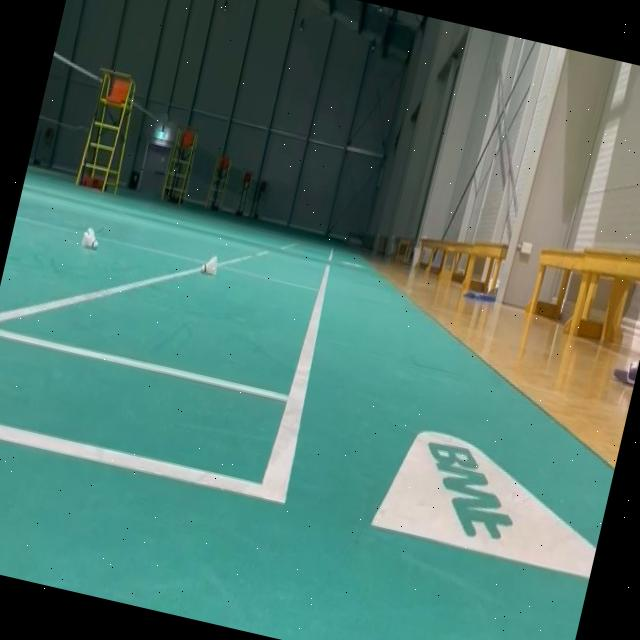Shuttle: (80, 224, 102, 251), (198, 252, 220, 277)
